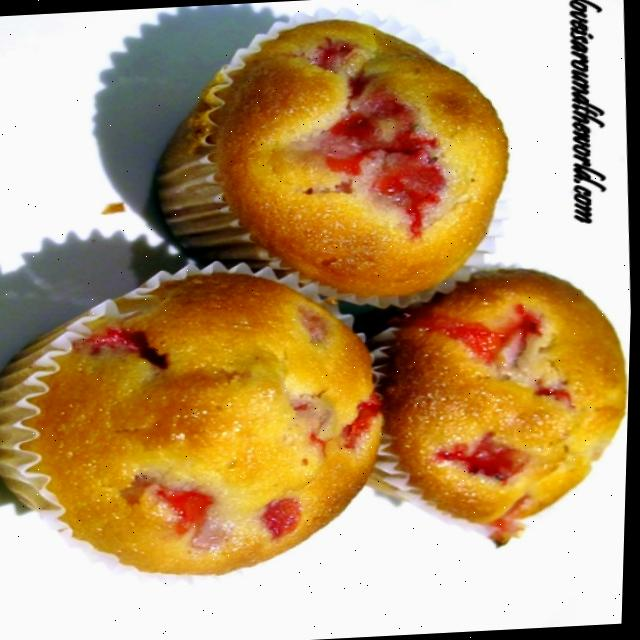炸货点心: (0, 4, 640, 618)
面包点心: (0, 4, 640, 618)
